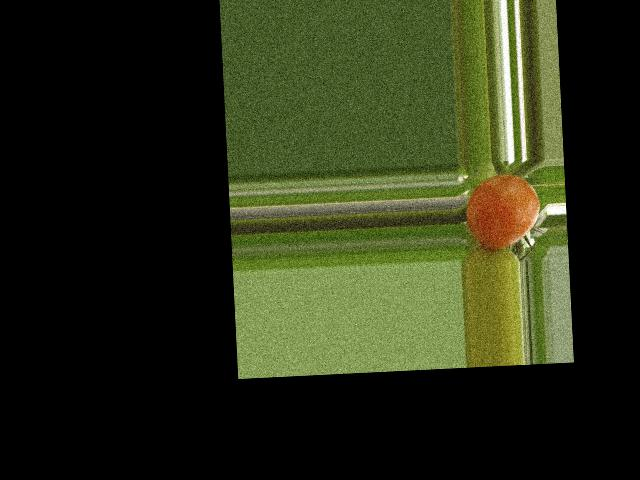tomato: (464, 172, 541, 251)
